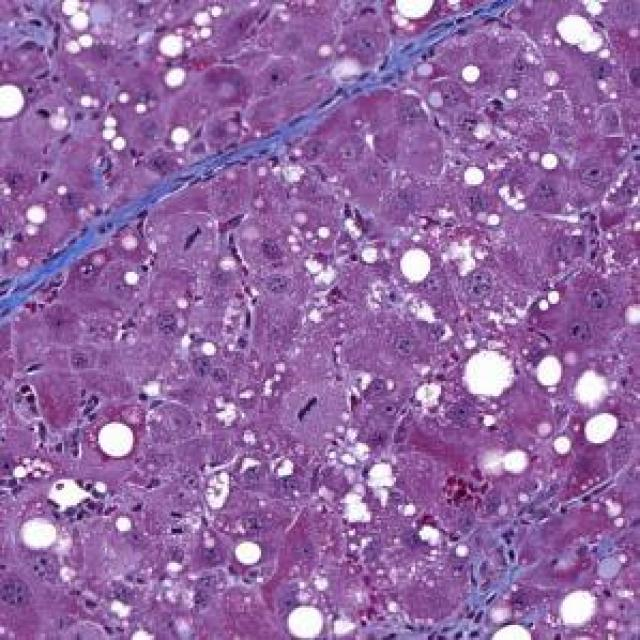fibrosis: (51, 165, 229, 263)
